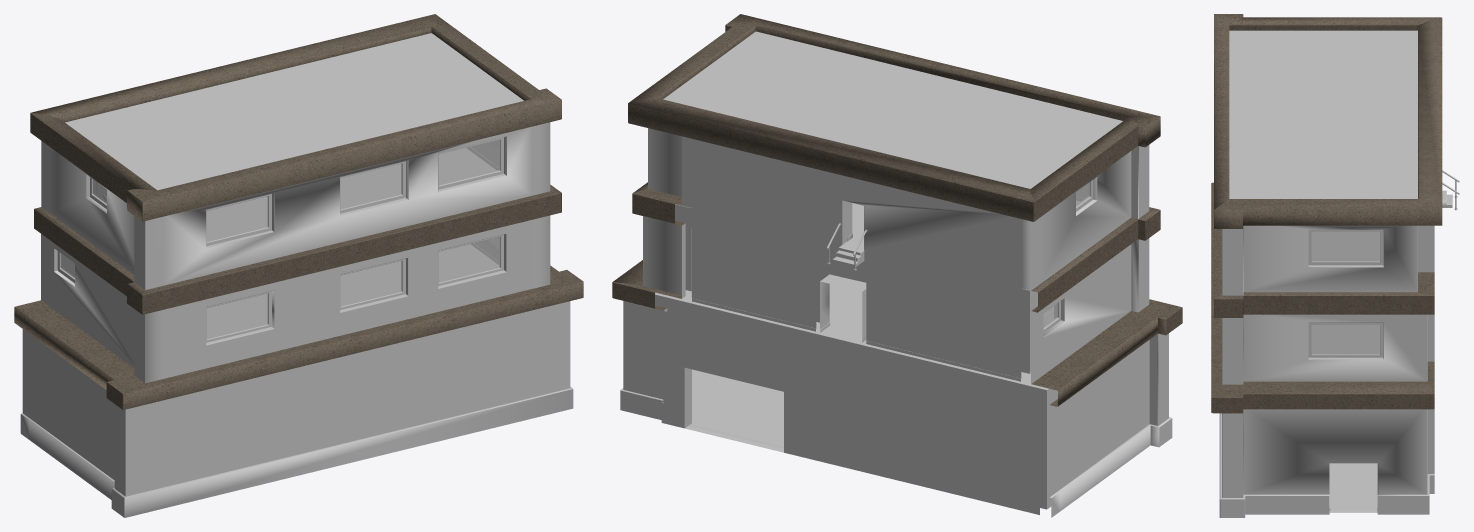
File: FireStationMainBuilding.fbx
3 views of the same model, side by side, from view 1: azimuth 30°, elevation 25°; view 2: azimuth 150°, elevation 25°; view 3: azimuth 270°, elevation 25° (orthographic). The views are drawn at different scales.
Visible parts, largest first — view 1: FireStationMainBuilding; view 2: FireStationMainBuilding; view 3: FireStationMainBuilding.
Boxes of the visible parts, x1,y1,x2,y2 form: FireStationMainBuilding: (14,14,583,517); FireStationMainBuilding: (612,14,1182,517); FireStationMainBuilding: (1211,14,1459,517).
Bounding box in the file's own units: 23.93 × 15.65 × 11.66.
